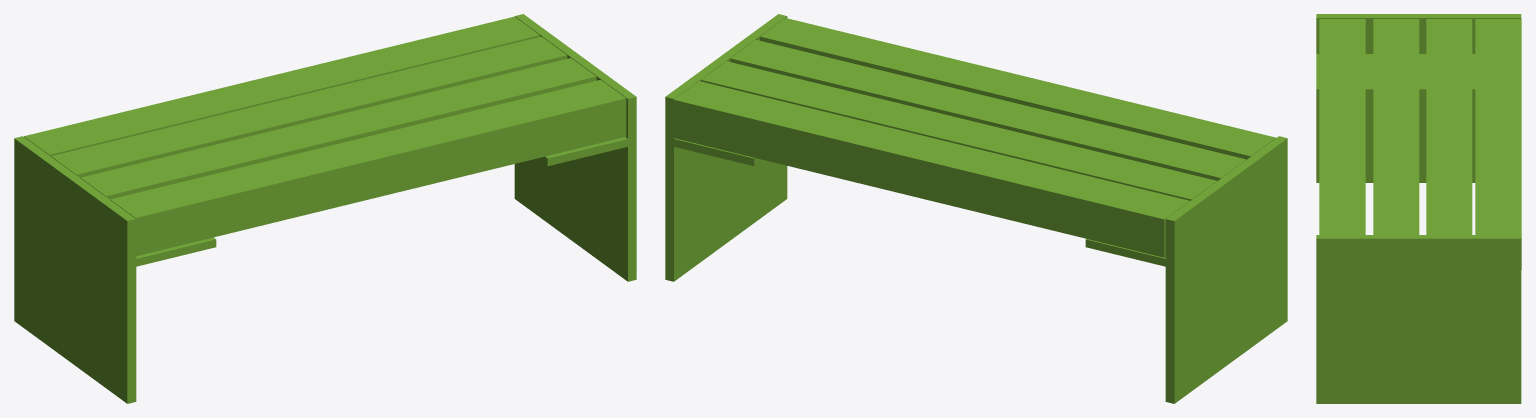
3 views of the same model, side by side, from view 1: azimuth 30°, elevation 25°; view 2: azimuth 150°, elevation 25°; view 3: azimuth 270°, elevation 25° (orthographic). The views are drawn at different scales.
Parts seen in each view (by area): view 1: Cube.003; view 2: Cube.003; view 3: Cube.003.
Part boxes in pixels (x1=…): Cube.003: x1=14, y1=14, x2=636, y2=403; Cube.003: x1=665, y1=14, x2=1287, y2=403; Cube.003: x1=1316, y1=14, x2=1521, y2=403.
Size of the model in its own units: 5.19 by 1.78 by 2.
